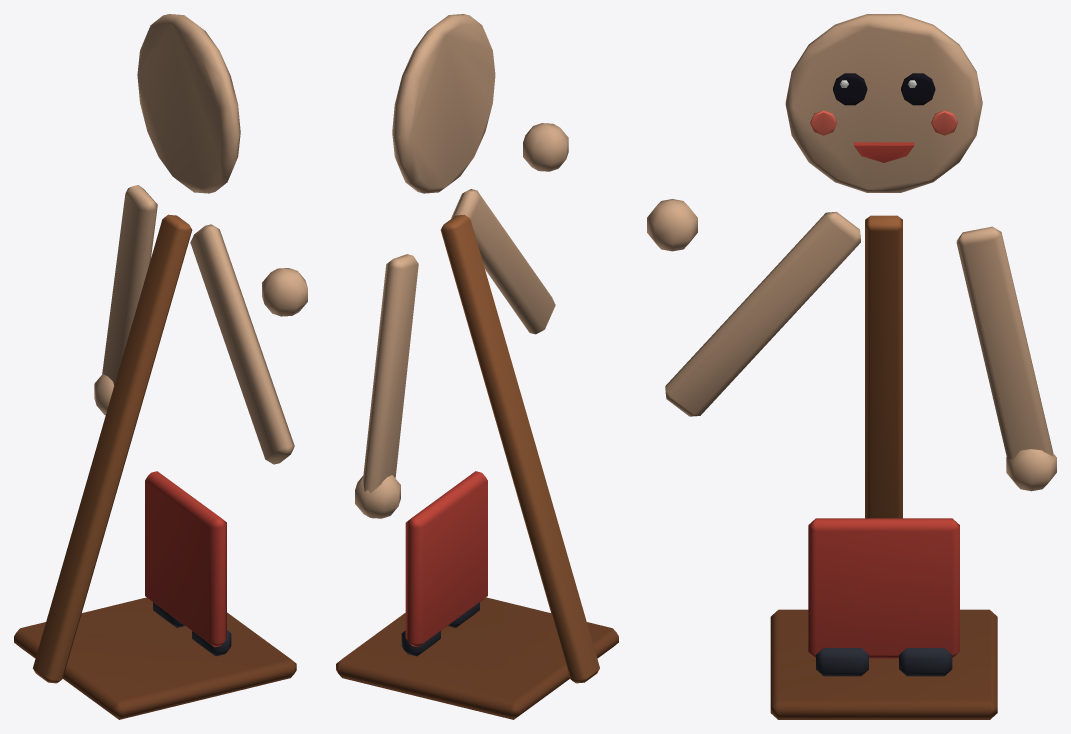
The model's file is SM_Prop_StandIn_Base.fbx.
The picture shows the model from 3 angles, left to right: view 1: azimuth 30°, elevation 25°; view 2: azimuth 150°, elevation 25°; view 3: azimuth 270°, elevation 25°; orthographic projection. The views are drawn at different scales.
Parts seen in each view (by area): view 1: SM_Prop_StandIn_Base; view 2: SM_Prop_StandIn_Base; view 3: SM_Prop_StandIn_Base.
Part boxes in pixels (<box>): SM_Prop_StandIn_Base: <box>14,14,307,719</box>; SM_Prop_StandIn_Base: <box>336,14,618,719</box>; SM_Prop_StandIn_Base: <box>647,14,1056,719</box>.
Size of the model in its own units: 68.06 by 198 by 108.
